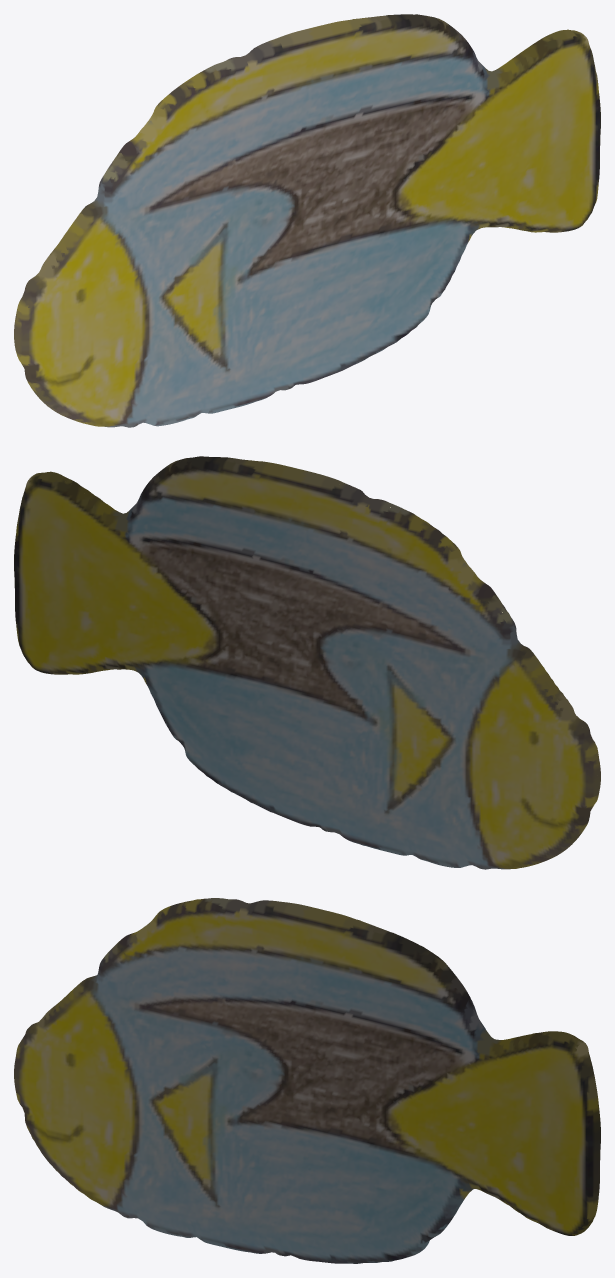
The model's file is blue_tang.glb.
3 renders of one model, top to bottom at view 1: azimuth 30°, elevation 25°; view 2: azimuth 150°, elevation 25°; view 3: azimuth 330°, elevation 25°, orthographic.
Bounding box in the file's own units: 0.3331 × 0.1958 × 0.0102.
